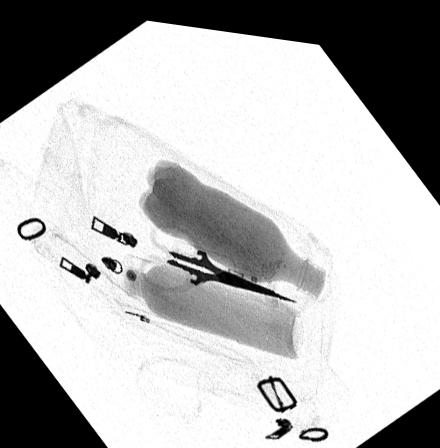Scissors: (136, 213, 298, 296)
